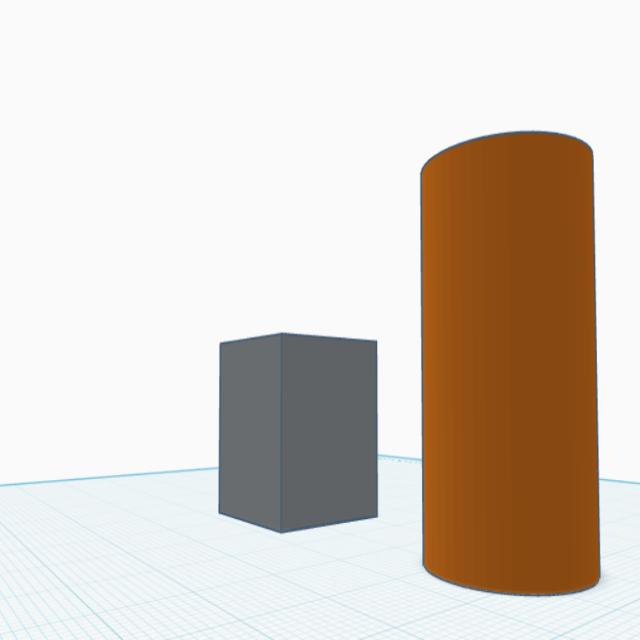cube: (215, 330, 382, 536)
